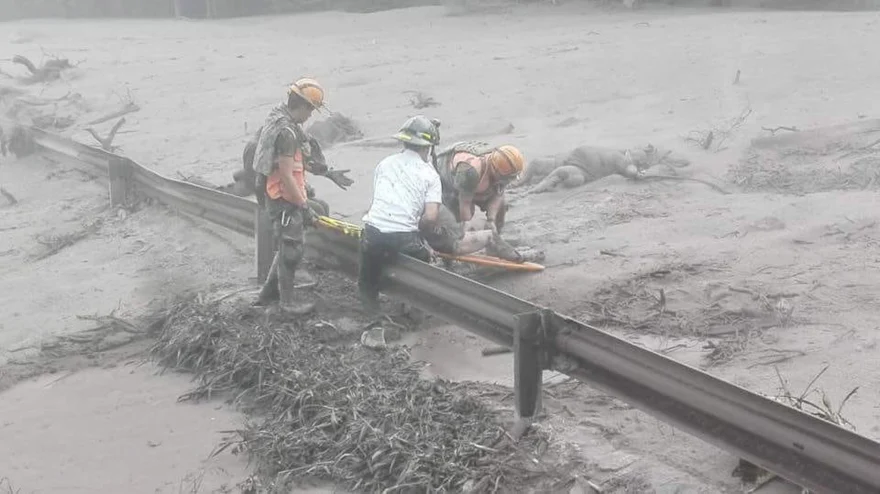BukanKorban: (359, 114, 442, 349), (253, 76, 327, 317), (435, 139, 525, 238)
Korban: (504, 142, 676, 199)
